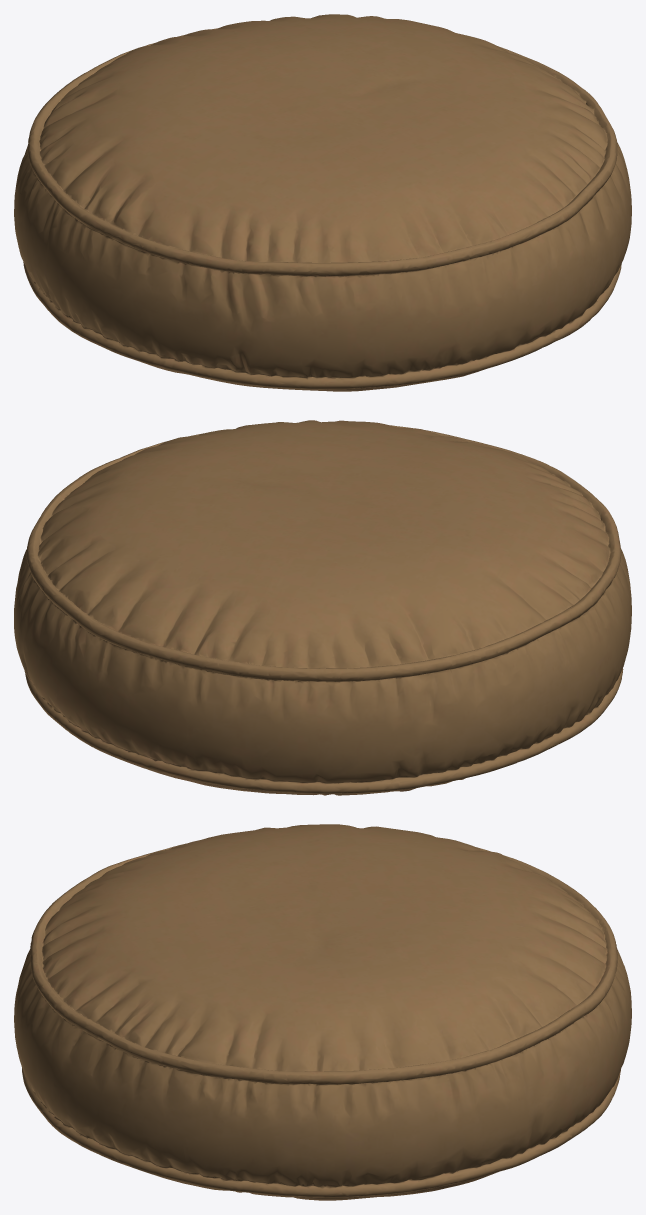
Rendered from floor-cushion-round-velvet-web-mesh.glb.
3 renders of one model, top to bottom at view 1: azimuth 30°, elevation 25°; view 2: azimuth 150°, elevation 25°; view 3: azimuth 270°, elevation 25°, orthographic.
Visible parts, largest first — view 1: world; view 2: world; view 3: world.
Part boxes in pixels (<box>): world: <box>14,14,631,391</box>; world: <box>14,420,631,795</box>; world: <box>14,824,631,1200</box>.
Bounding box in the file's own units: 1 × 0.328 × 1.
Materials: 1 (1 with a texture image).
